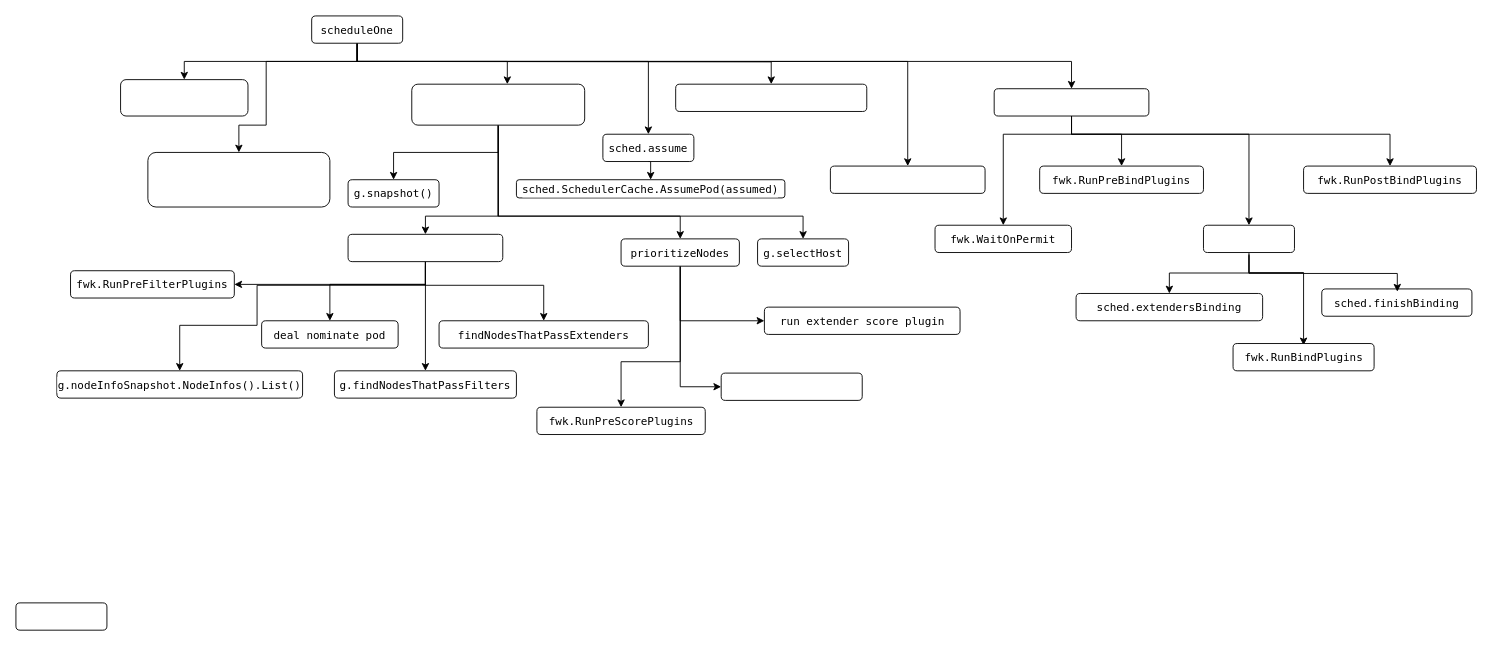
This 1492x646 diagram has some shape labels left out. The shapes that lost their labels are listed below. From the top down, each one's centre as x and y in pixels, then its label:
(184,97): podInfo := sched.NextPod()
(498,104): sched.Algorithm.Schedule
(771,97): fwk.RunReservePluginsReserve
(1071,102): bind go routine
(238,179): fwk, err := sched.frameworkForPod(pod)
(907,179): fwk.RunPermitPlugins
(425,247): g.findNodesThatFitPod
(1248,238): sched.bind
(791,386): fwk.RunScorePlugins
